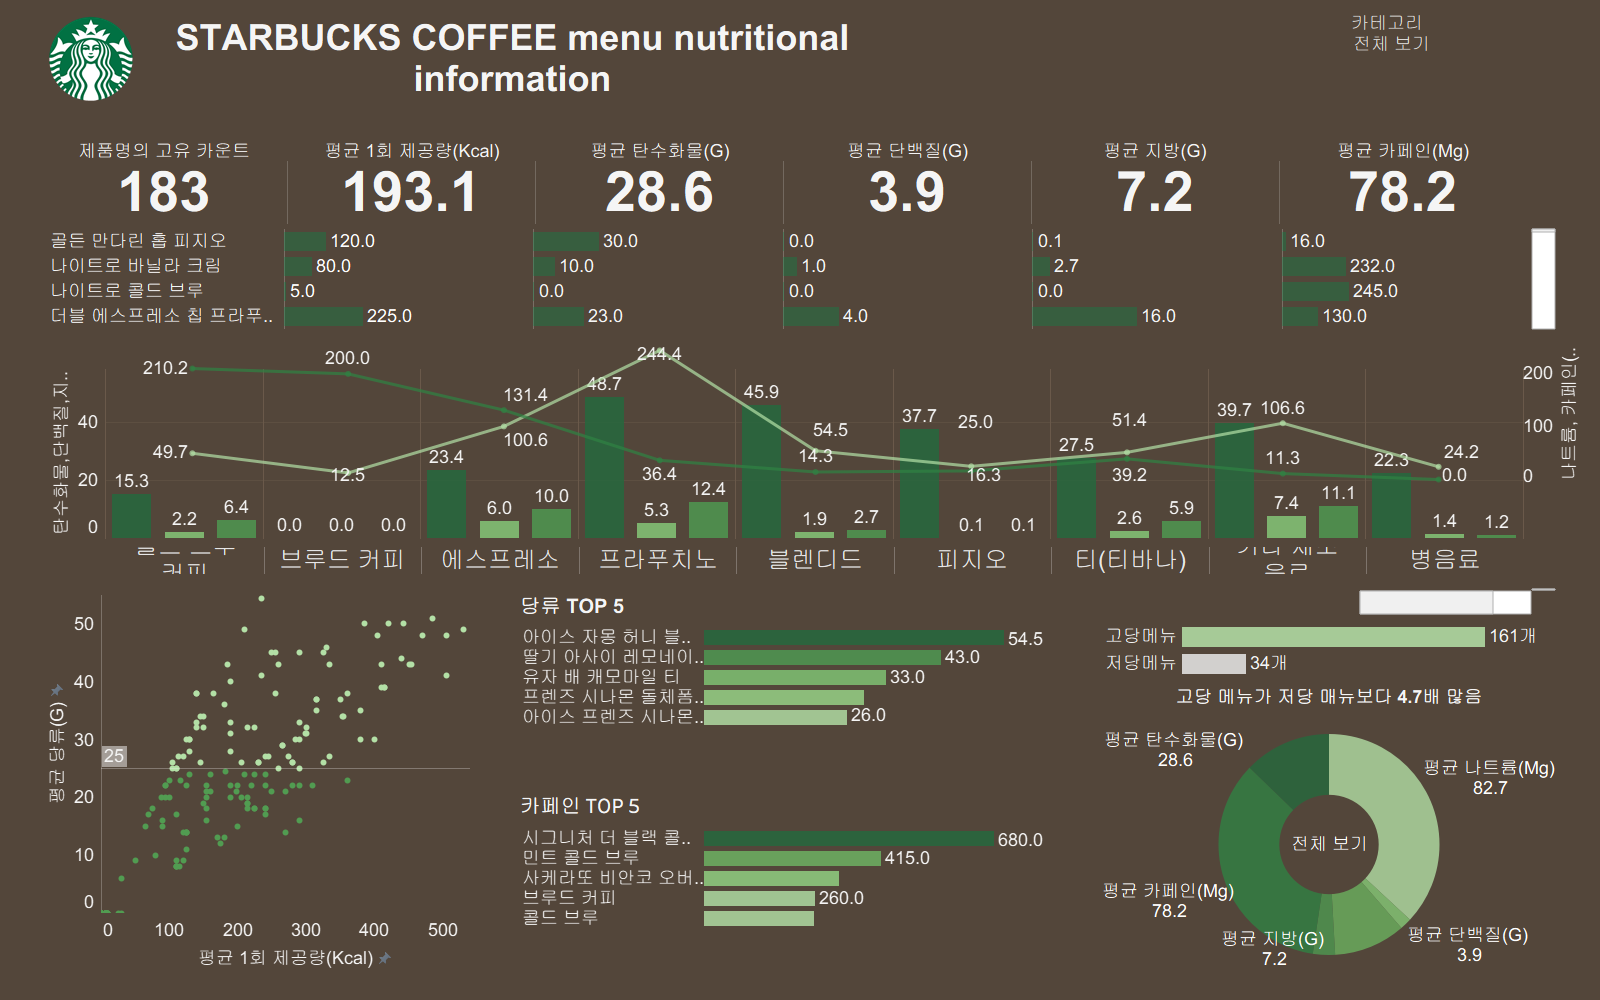

Layout of this report page (visuals, bound fields, positions):
{"tool":"tableau","page":{"name":"메뉴 데이터 대시보드","canvas":[1600,1000],"ordinal":1},"visuals":[{"type":"blank","box":[8,8,32,968]},{"type":"image","param":"Image/Starbucks아이콘.png","box":[40,8,116,101]},{"type":"text","box":[156,8,713,101]},{"type":"blank","box":[869,8,478,101]},{"type":"parameter","param":"[Parameters].[매개 변수 1 2]","box":[1347,8,213,101]},{"type":"blank","box":[1560,8,32,968]},{"type":"blank","box":[40,109,1520,32]},{"type":"worksheet","title":"영양 평균","mark":"Text","box":[40,141,1488,84]},{"type":"blank","box":[1528,141,32,84]},{"type":"worksheet","title":"Nutritional information","mark":"Automatic","rows":["제품명"],"cols":["1회 제공량(kcal)","탄수화물(g)","단백질(g)","지방(g)","카페인(mg)"],"box":[40,225,1520,108]},{"type":"blank","box":[40,333,1520,32]},{"type":"worksheet","title":"나트륨*카페인 라인 차트","mark":"Line","rows":["나트륨(mg)","카페인(mg)"],"box":[43,342,1544,145]},{"type":"worksheet","title":"평균 탄단지 차트","mark":"Bar","box":[40,365,1488,178]},{"type":"blank","box":[1528,365,32,178]},{"type":"blank","box":[40,543,63,42]},{"type":"worksheet","title":"메뉴 아이콘","mark":"Automatic","box":[103,543,1425,42]},{"type":"blank","box":[1528,543,32,42]},{"type":"worksheet","title":"당류*칼로리 산점도","mark":"Circle","rows":["당류(g)"],"cols":["1회 제공량(kcal)"],"box":[40,585,440,391]},{"type":"blank","box":[480,585,32,391]},{"type":"worksheet","title":"당류 TOP 5","mark":"Automatic","rows":["제품명"],"cols":["당류(g)"],"box":[512,585,554,196]},{"type":"blank","box":[1066,585,32,391]},{"type":"blank","box":[1098,585,258,34]},{"type":"worksheet","title":"비율 텍스트","mark":"Automatic","box":[1356,585,204,34]},{"type":"worksheet","title":"가로막대","mark":"Automatic","rows":["Calculation_0029990106718215"],"cols":["제품명"],"box":[1098,619,462,62]},{"type":"text","box":[1098,681,462,32]},{"type":"worksheet","title":"카테고리별 성분 차트","mark":"Pie","rows":["Calculation_0212508730372103","Calculation_0212508730372103"],"box":[1098,713,462,263]},{"type":"worksheet","title":"카페인 TOP 5","mark":"Automatic","rows":["제품명"],"cols":["카페인(mg)"],"box":[512,781,554,195]},{"type":"blank","box":[8,976,1584,16]}]}

Visuals, with their boxes in screenshot pixels (x1, y1, x2, y2), scaled from the page's 1600x1000 canvas onto the 1600x1000 screenshot:
blank: <bbox>8, 8, 40, 976</bbox>
image: <bbox>40, 8, 156, 109</bbox>
text: <bbox>156, 8, 869, 109</bbox>
blank: <bbox>869, 8, 1347, 109</bbox>
parameter: <bbox>1347, 8, 1560, 109</bbox>
blank: <bbox>1560, 8, 1592, 976</bbox>
blank: <bbox>40, 109, 1560, 141</bbox>
"영양 평균" worksheet (Text marks): <bbox>40, 141, 1528, 225</bbox>
blank: <bbox>1528, 141, 1560, 225</bbox>
"Nutritional information" worksheet: <bbox>40, 225, 1560, 333</bbox>
blank: <bbox>40, 333, 1560, 365</bbox>
"나트륨*카페인 라인 차트" worksheet (Line marks): <bbox>43, 342, 1587, 487</bbox>
"평균 탄단지 차트" worksheet (Bar marks): <bbox>40, 365, 1528, 543</bbox>
blank: <bbox>1528, 365, 1560, 543</bbox>
blank: <bbox>40, 543, 103, 585</bbox>
"메뉴 아이콘" worksheet: <bbox>103, 543, 1528, 585</bbox>
blank: <bbox>1528, 543, 1560, 585</bbox>
"당류*칼로리 산점도" worksheet (Circle marks): <bbox>40, 585, 480, 976</bbox>
blank: <bbox>480, 585, 512, 976</bbox>
"당류 TOP 5" worksheet: <bbox>512, 585, 1066, 781</bbox>
blank: <bbox>1066, 585, 1098, 976</bbox>
blank: <bbox>1098, 585, 1356, 619</bbox>
"비율 텍스트" worksheet: <bbox>1356, 585, 1560, 619</bbox>
"가로막대" worksheet: <bbox>1098, 619, 1560, 681</bbox>
text: <bbox>1098, 681, 1560, 713</bbox>
"카테고리별 성분 차트" worksheet (Pie marks): <bbox>1098, 713, 1560, 976</bbox>
"카페인 TOP 5" worksheet: <bbox>512, 781, 1066, 976</bbox>
blank: <bbox>8, 976, 1592, 992</bbox>
